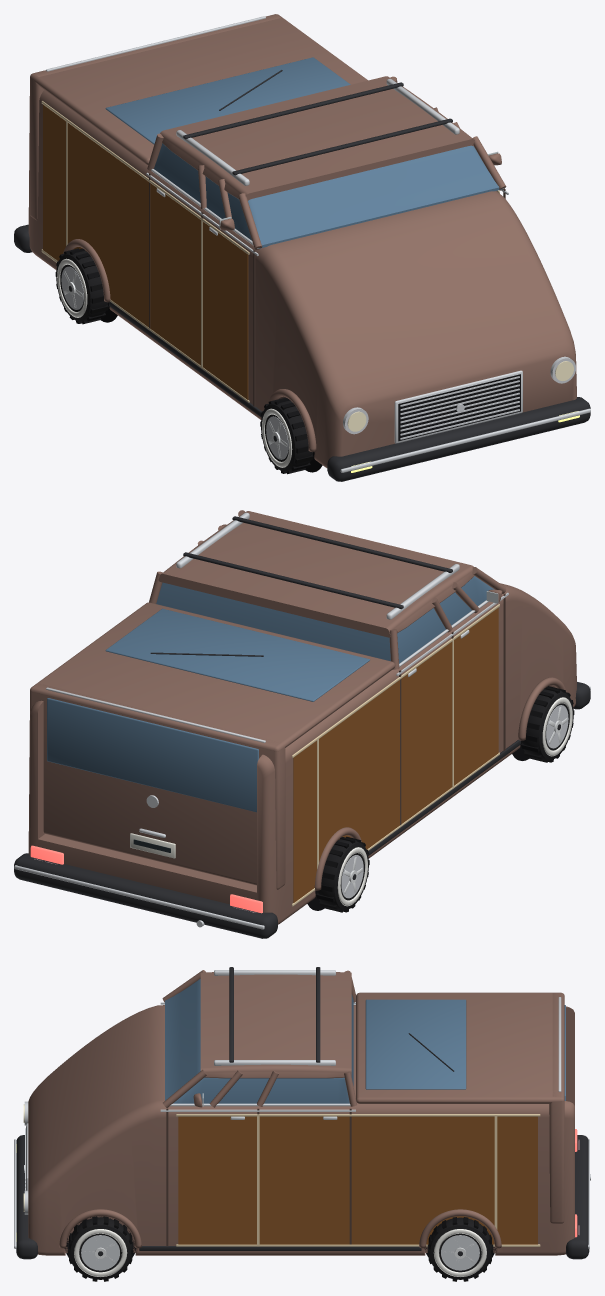
File: together.fbx
3 renders of one model, top to bottom at view 1: azimuth 30°, elevation 25°; view 2: azimuth 150°, elevation 25°; view 3: azimuth 270°, elevation 25°, orthographic. The views are drawn at different scales.
Parts seen in each view (by area): view 1: Body, Lid, Wheel_3, Wheel_1, LidFlap; view 2: Body, LidFlap, Lid, Wheel_3, Wheel_1; view 3: Body, Lid, Wheel_2, Wheel_0, LidFlap.
Boxes of the visible parts, x1=… form: Body: x1=14, y1=76, x2=590, y2=481; Lid: x1=30, y1=14, x2=367, y2=164; Wheel_3: x1=260, y1=397, x2=313, y2=474; Wheel_1: x1=55, y1=248, x2=108, y2=324; LidFlap: x1=30, y1=14, x2=280, y2=220; Body: x1=14, y1=510, x2=590, y2=938; LidFlap: x1=30, y1=683, x2=285, y2=889; Lid: x1=30, y1=602, x2=395, y2=751; Wheel_3: x1=521, y1=686, x2=574, y2=762; Wheel_1: x1=316, y1=836, x2=369, y2=912; Body: x1=14, y1=967, x2=590, y2=1259; Lid: x1=356, y1=992, x2=564, y2=1103; Wheel_2: x1=67, y1=1216, x2=133, y2=1281; Wheel_0: x1=427, y1=1217, x2=493, y2=1281; LidFlap: x1=549, y1=993, x2=565, y2=1223.
Bounding box in the file's own units: 6.5 × 5.28 × 12.99.
